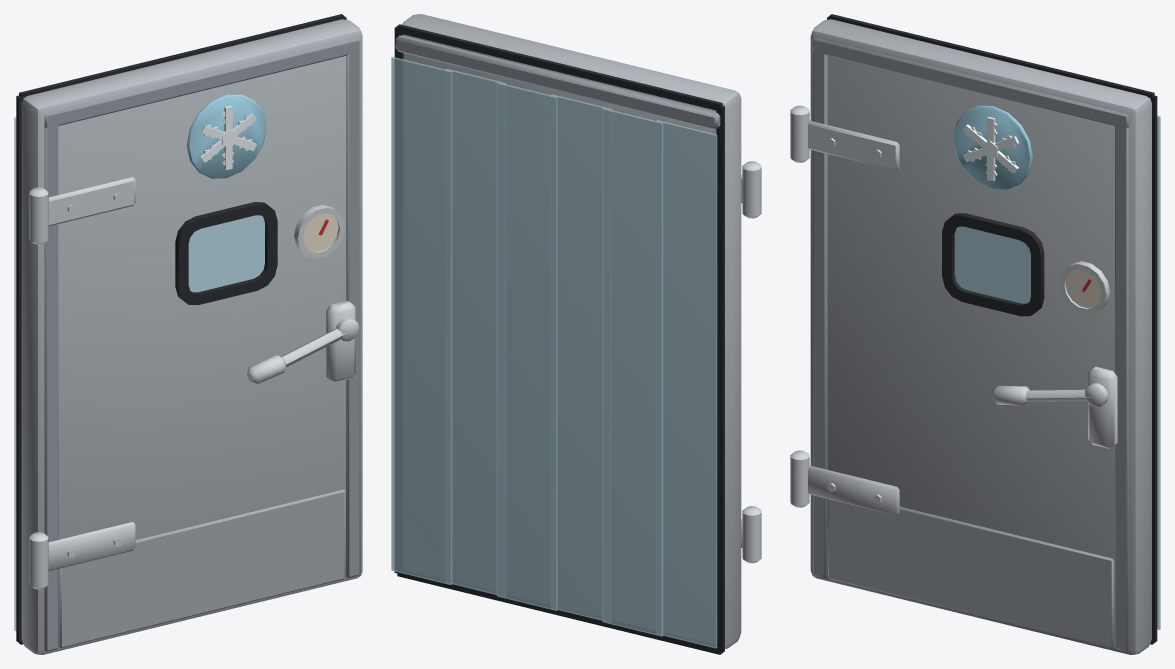
Rendered from Kitchen_FreezerDoor.fbx.
3 views of the same model, side by side, from view 1: azimuth 30°, elevation 25°; view 2: azimuth 150°, elevation 25°; view 3: azimuth 330°, elevation 25° (orthographic).
Parts seen in each view (by area): view 1: Leaf, KickPlate, Trim, Hardware, Gasket, Window, WindowFrame, Badge, Handle, Snowflake, Strips, Dial; view 2: Strips, Leaf, Gasket, Header, Hardware; view 3: Leaf, KickPlate, Trim, Hardware, Gasket, Window, WindowFrame, Badge, Strips, Handle, Snowflake, Dial.
Boxes of the visible parts, bbox=[...] form: Leaf: bbox=[21, 19, 362, 654]; KickPlate: bbox=[59, 489, 345, 647]; Trim: bbox=[44, 37, 360, 651]; Hardware: bbox=[29, 177, 355, 589]; Gasket: bbox=[16, 14, 346, 644]; Window: bbox=[188, 215, 264, 292]; WindowFrame: bbox=[175, 202, 277, 305]; Badge: bbox=[186, 94, 266, 178]; Handle: bbox=[247, 317, 359, 384]; Snowflake: bbox=[200, 105, 256, 169]; Strips: bbox=[14, 117, 16, 630]; Dial: bbox=[303, 213, 338, 251]; Strips: bbox=[391, 56, 717, 648]; Leaf: bbox=[402, 14, 741, 648]; Gasket: bbox=[394, 24, 724, 654]; Header: bbox=[395, 35, 720, 128]; Hardware: bbox=[741, 161, 761, 563]; Leaf: bbox=[810, 19, 1151, 654]; KickPlate: bbox=[828, 499, 1114, 647]; Trim: bbox=[813, 37, 1129, 651]; Hardware: bbox=[790, 105, 1117, 515]; Gasket: bbox=[827, 14, 1157, 644]; Window: bbox=[954, 226, 1030, 303]; WindowFrame: bbox=[942, 213, 1044, 316]; Badge: bbox=[953, 105, 1032, 189]; Strips: bbox=[1157, 115, 1160, 629]; Handle: bbox=[993, 383, 1108, 407]; Snowflake: bbox=[963, 117, 1018, 181]; Dial: bbox=[1065, 269, 1100, 308].
Bounding box in the file's own units: 516 × 800 × 115.
